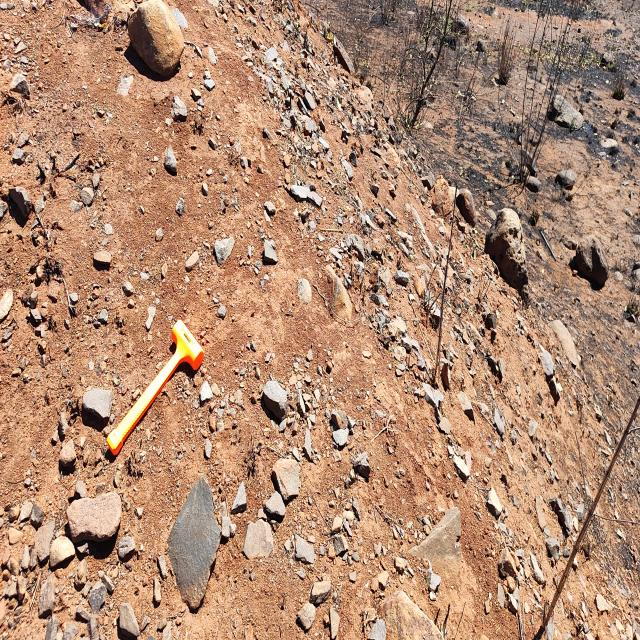Orange_hammer: (106, 318, 204, 457)
rock: (122, 0, 188, 87), (86, 243, 122, 277)
